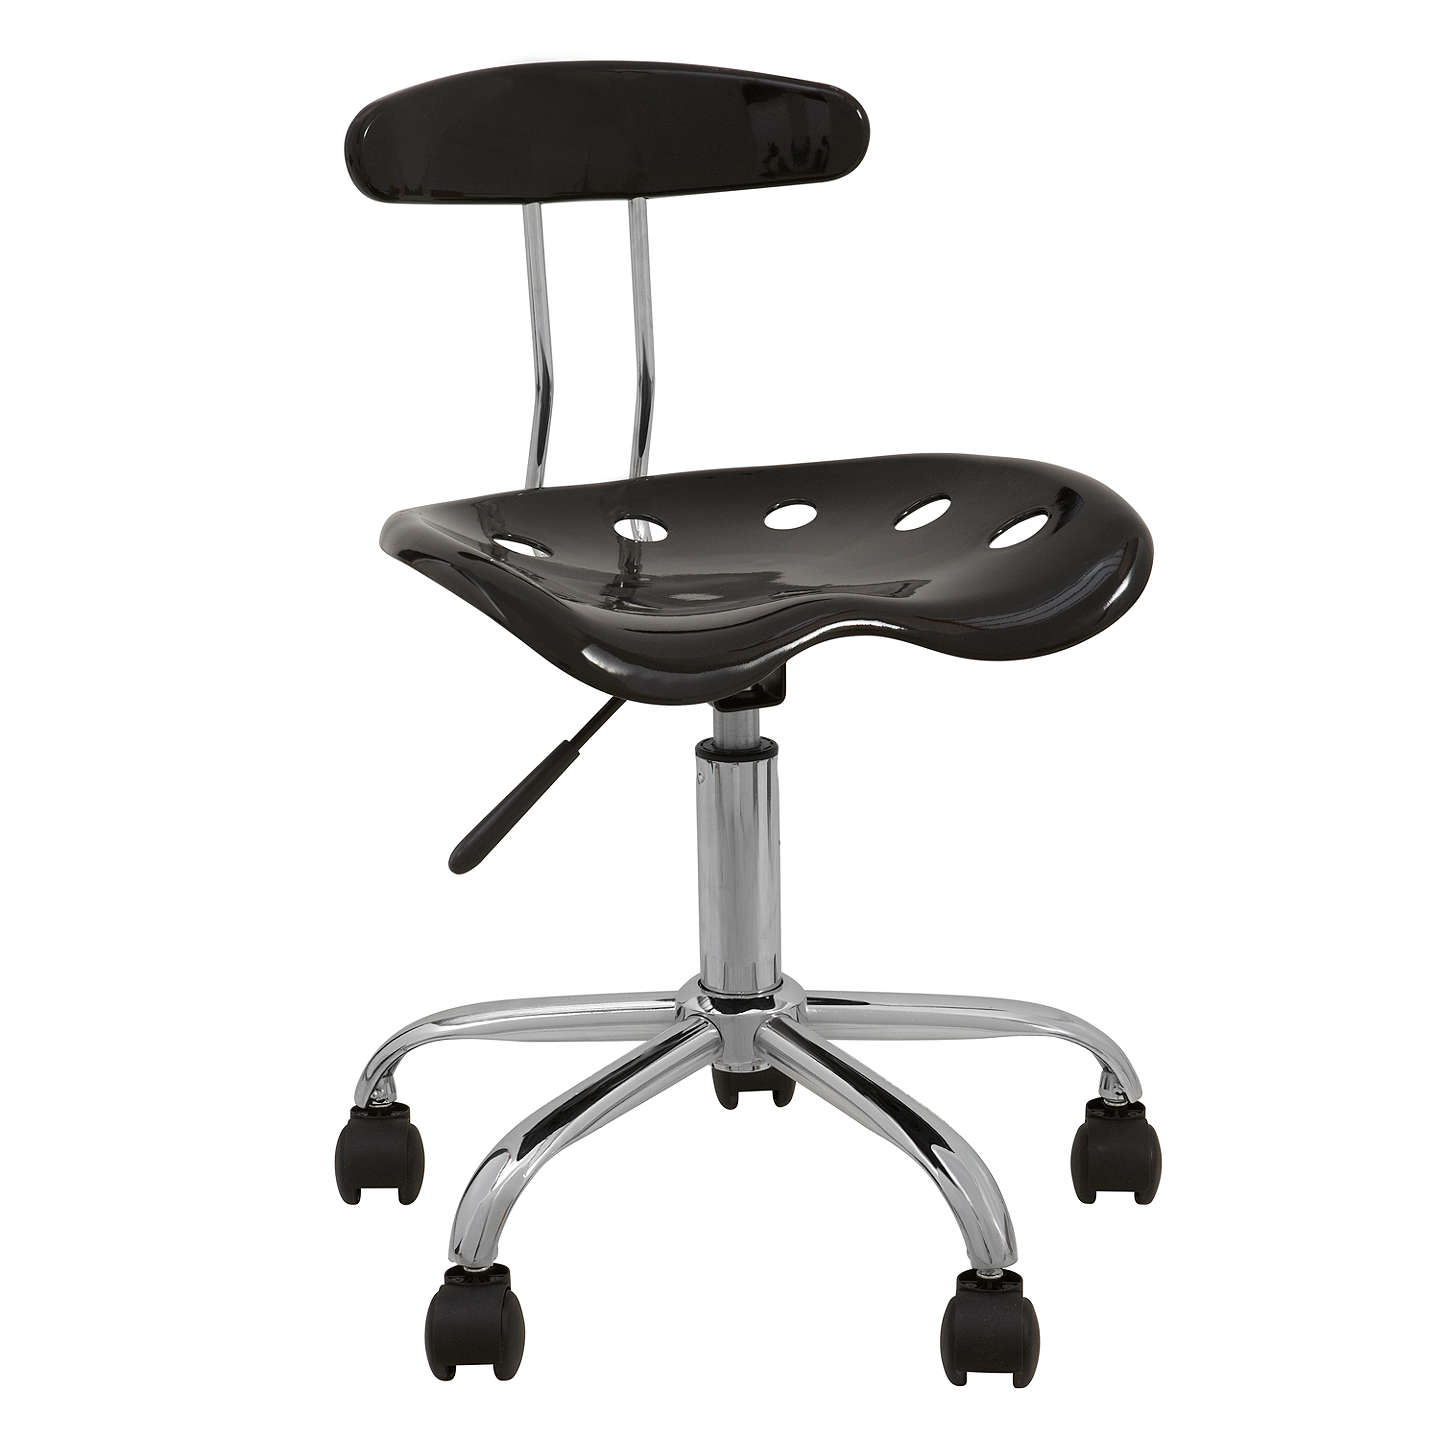chairs: (282, 61, 1174, 1393)
